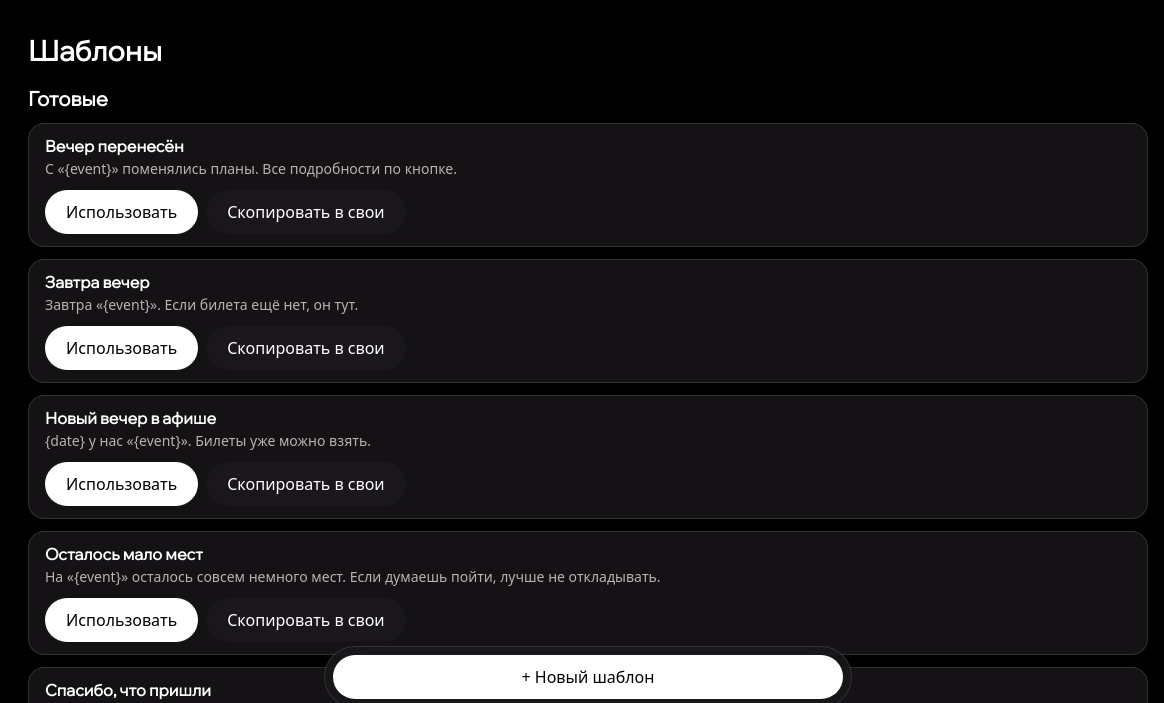
Test: Templates › opens the new-template form from the bottom bar
The width and height of the screenshot is (1164, 703).
Click the button "+ Новый шаблон" at point(588, 677), box [333,655,843,699]
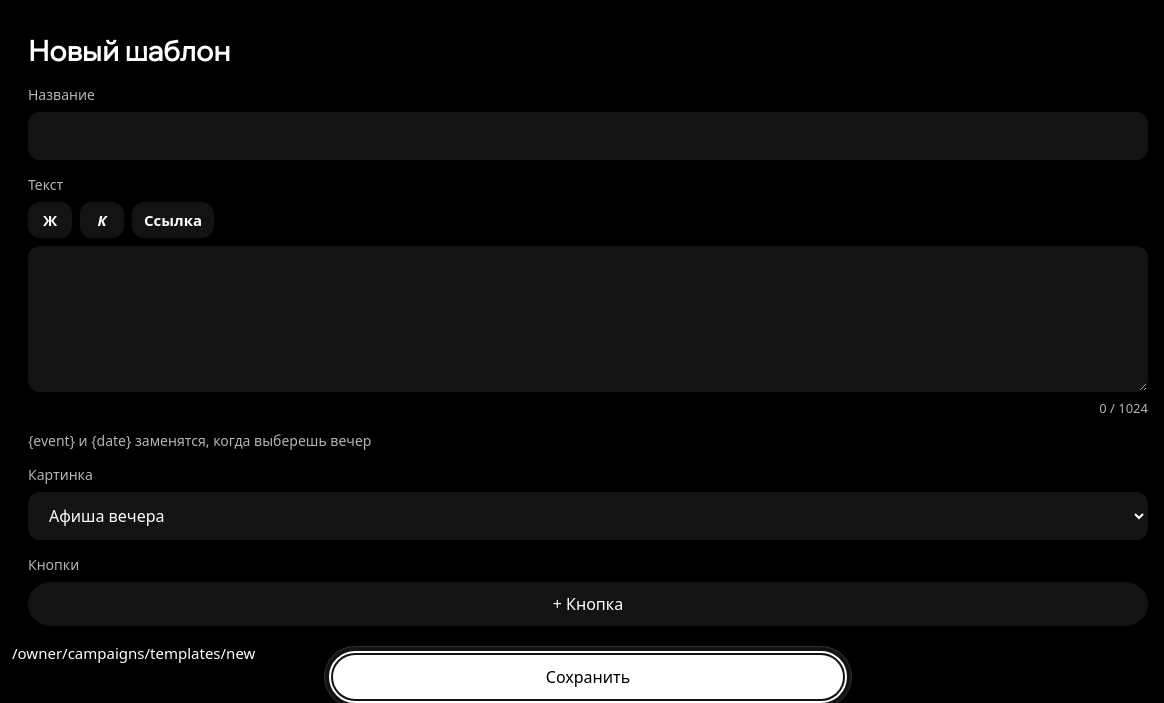
Expected: the text with test id "where" reads "/owner/campaigns/templates/new", [12,642,255,662]
